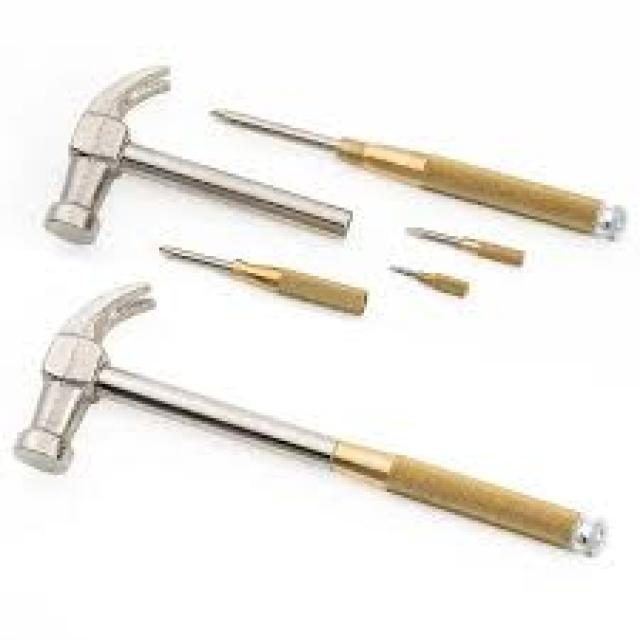hammer: (0, 262, 529, 560), (14, 46, 362, 247)
